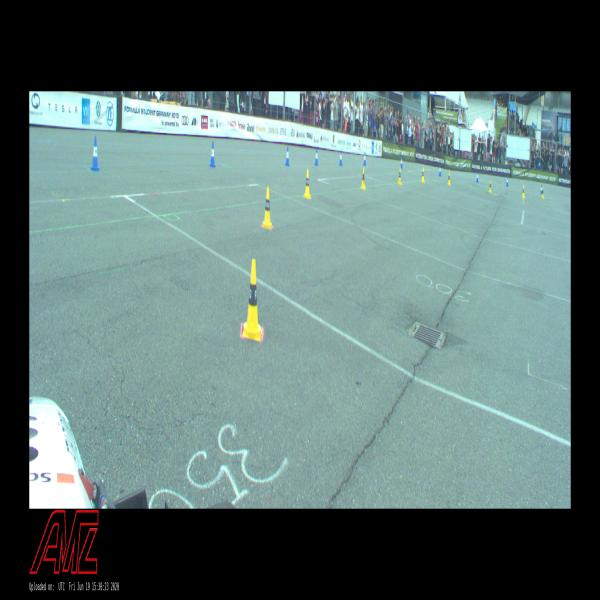blue_cone: (90, 136, 100, 172), (209, 142, 216, 168), (285, 146, 290, 166), (314, 148, 318, 166), (338, 150, 342, 166), (363, 152, 366, 166), (438, 164, 441, 177), (400, 156, 403, 169), (476, 171, 479, 182), (506, 176, 508, 187), (540, 184, 542, 194)
yellow_cone: (242, 259, 262, 341), (261, 186, 273, 230), (304, 169, 311, 199), (360, 168, 366, 189), (397, 167, 402, 185), (421, 167, 425, 183), (447, 171, 451, 186), (488, 180, 492, 193), (522, 184, 525, 198), (542, 186, 544, 199)
